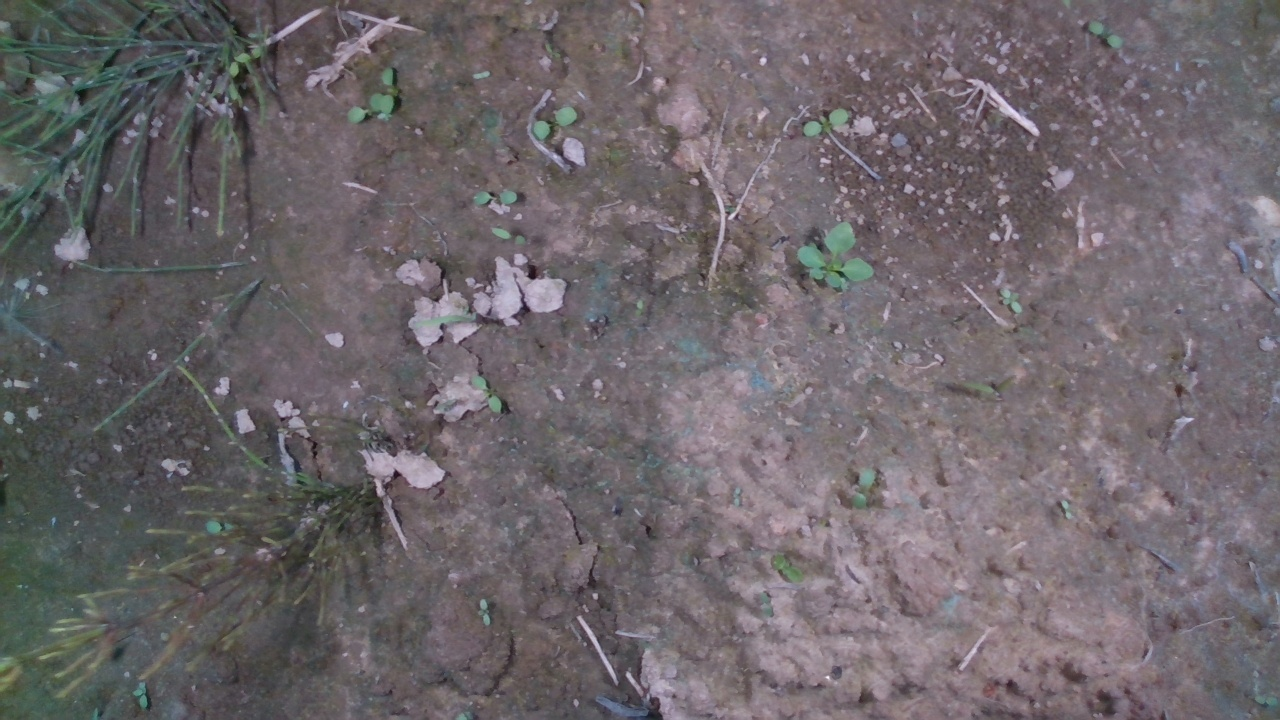weed: (795, 219, 875, 289), (530, 105, 578, 141), (803, 107, 849, 137), (470, 374, 502, 413), (1087, 20, 1125, 49), (851, 468, 877, 509), (472, 189, 518, 204), (999, 287, 1023, 314), (477, 598, 490, 626), (1061, 498, 1073, 521)
